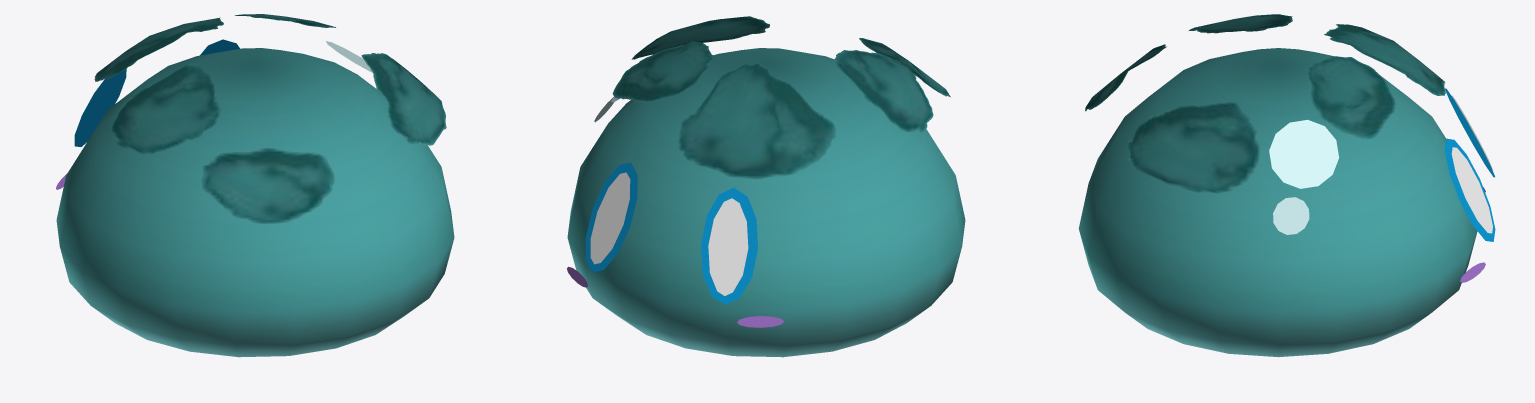
The model's file is PyroSlime.fbx.
The picture shows the model from 3 angles, left to right: view 1: azimuth 30°, elevation 25°; view 2: azimuth 150°, elevation 25°; view 3: azimuth 270°, elevation 25°; orthographic projection.
Visible parts, largest first — view 1: slime001; view 2: slime001; view 3: slime001.
Boxes of the visible parts, bbox=[...] form: slime001: bbox=[56, 14, 454, 357]; slime001: bbox=[567, 16, 965, 357]; slime001: bbox=[1078, 14, 1495, 357].
Bounding box in the file's own units: 0.7268 × 0.4766 × 0.7268.
1 material, 1 textured.
